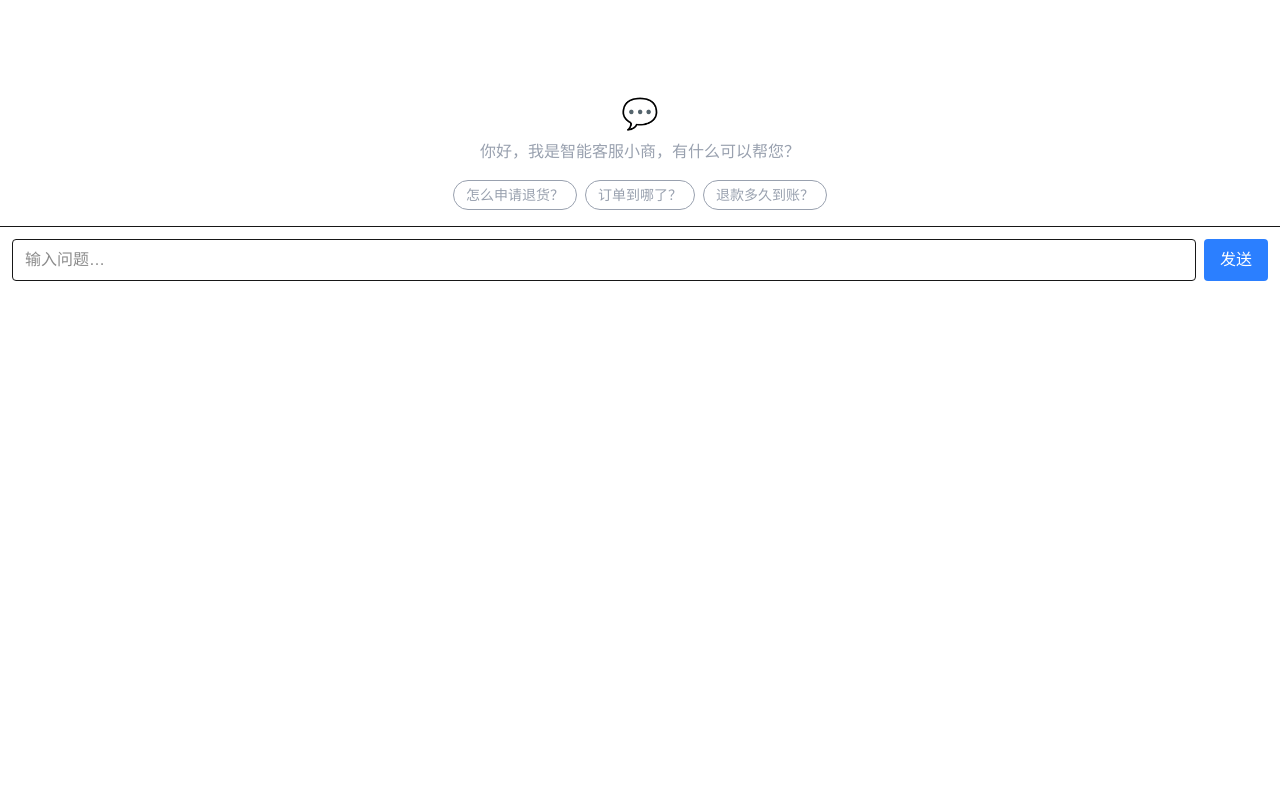
Test case: ChatWindow › 转人工 → 回复 → 沉淀 → 发布 完整流程
In the field with placeholder "输入问题…": coordinates (604, 260) [12, 239, 1196, 281], type "怎么开电子发票"
Click the button "发送": coordinates (1236, 260) [1204, 239, 1268, 281]
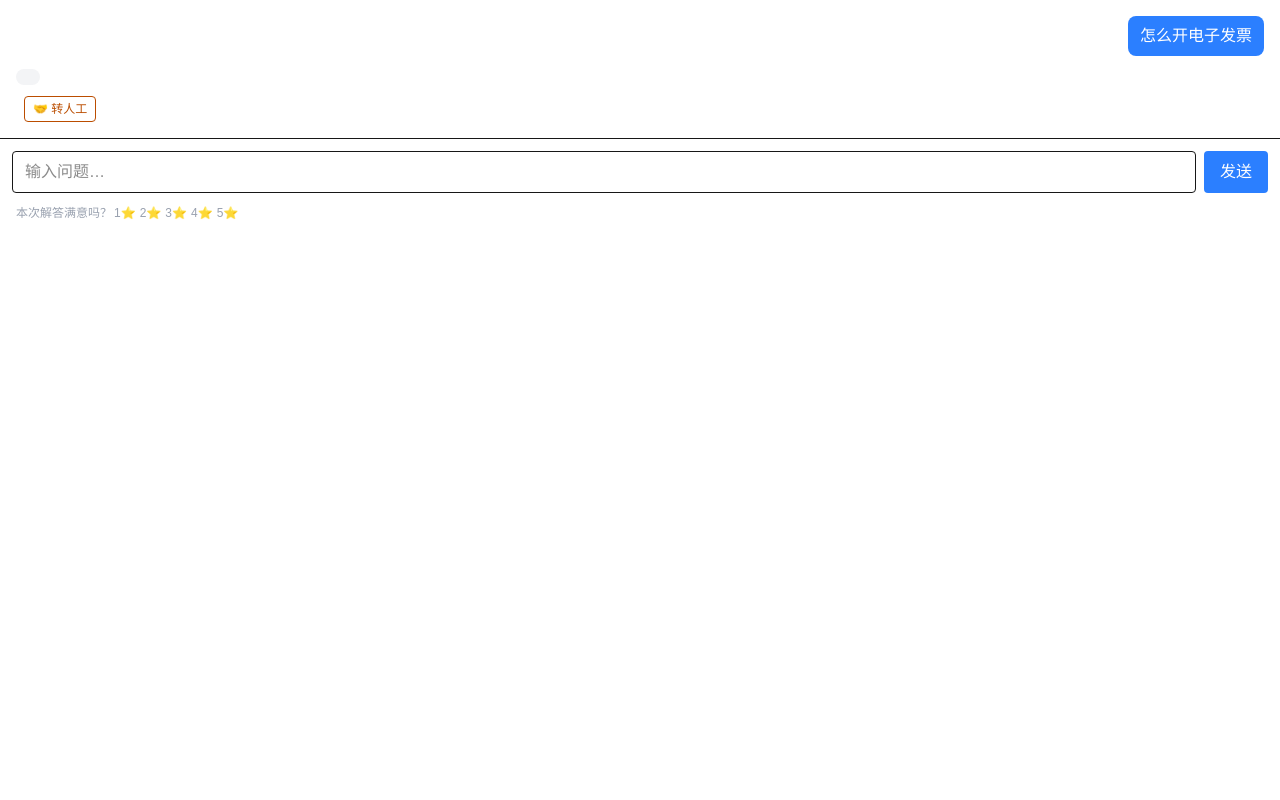
Click the button "🤝 转人工": coordinates (60, 109) [24, 96, 96, 122]
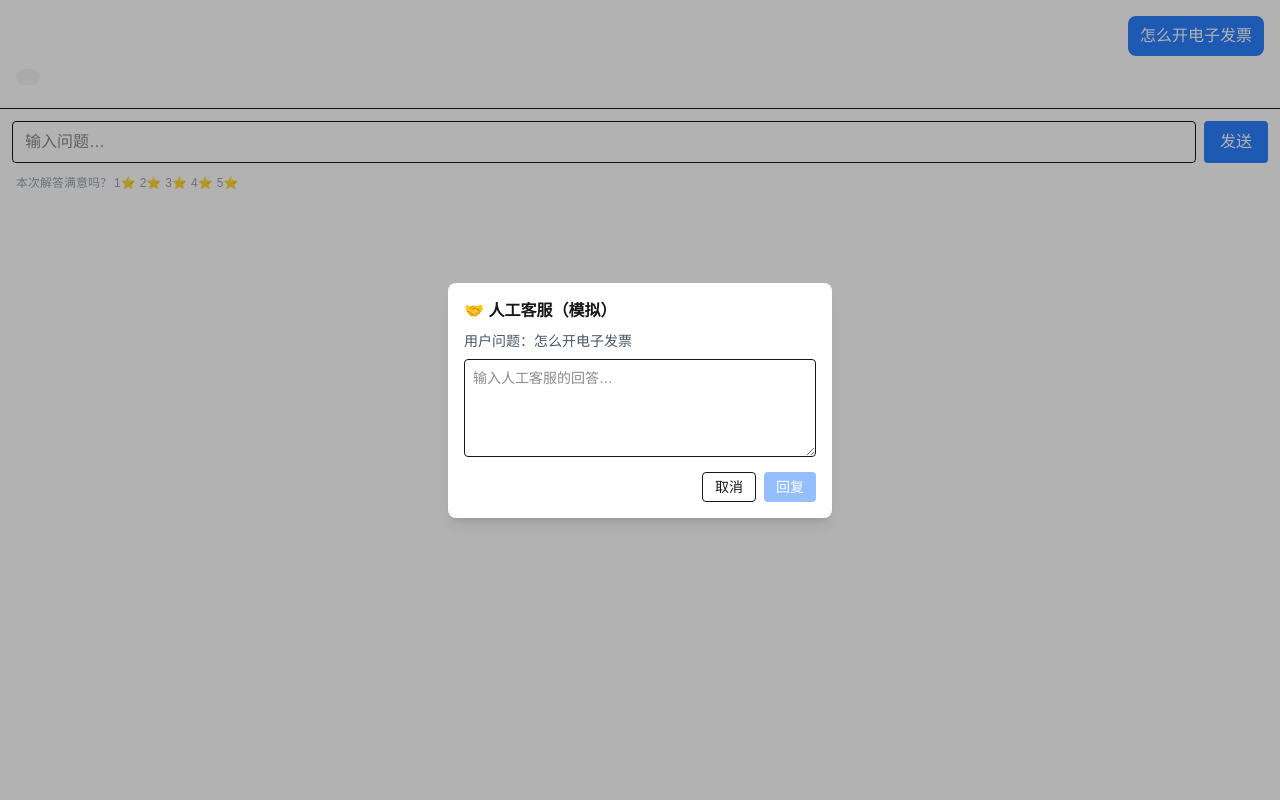
In the text box with placeholder "输入人工客服的回答…": coordinates (640, 408) [464, 358, 816, 456], type "请联系财务开具"
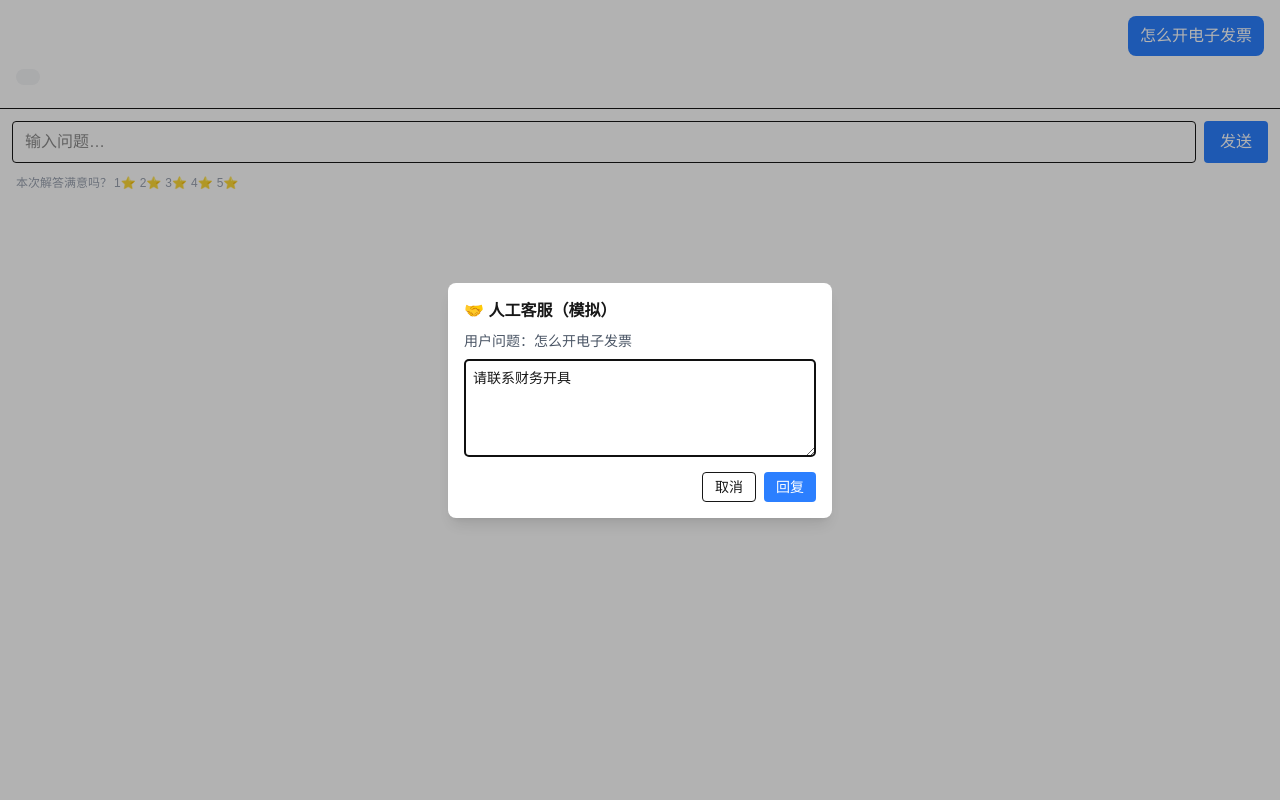
Click the button "回复": coordinates (790, 486) [764, 472, 816, 502]
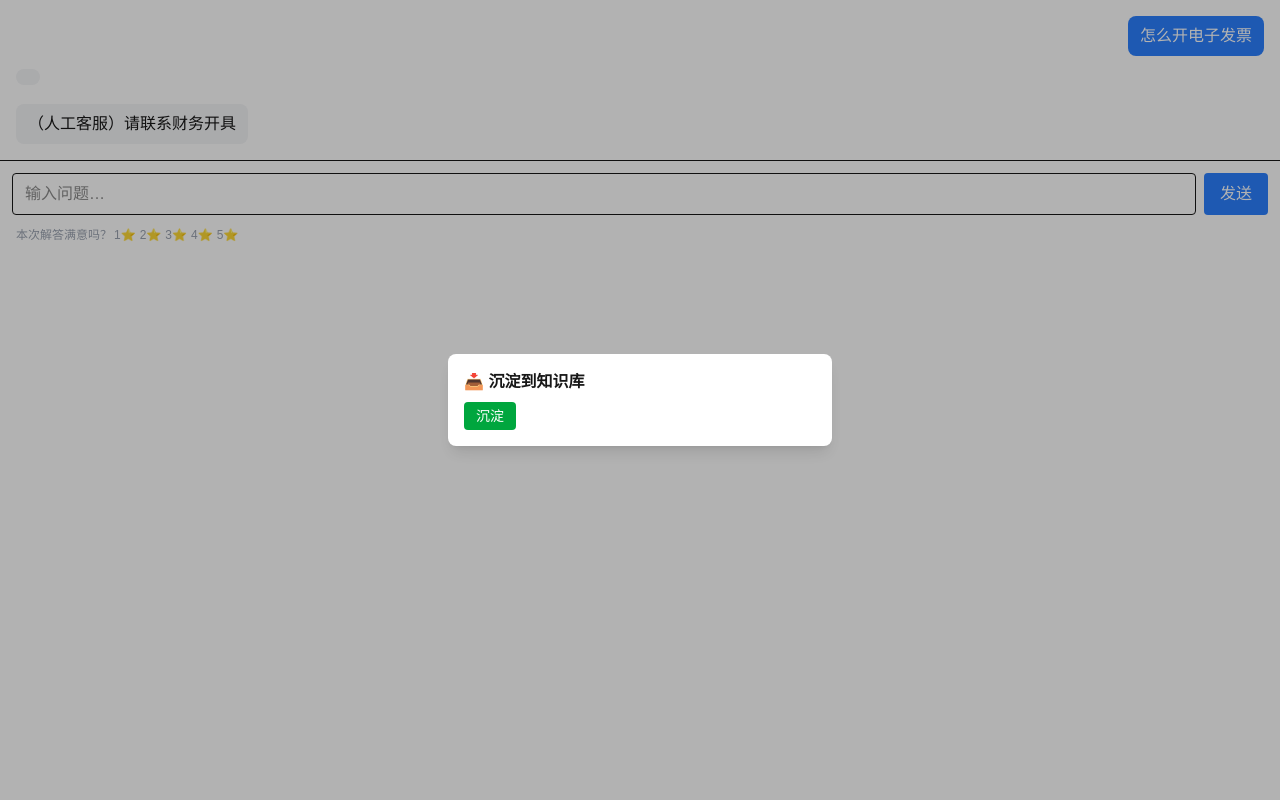
Now the text "（人工客服）请联系财务开具" is shown, box [28, 112, 236, 136]
Click the button "沉淀": coordinates (490, 416) [464, 402, 516, 430]
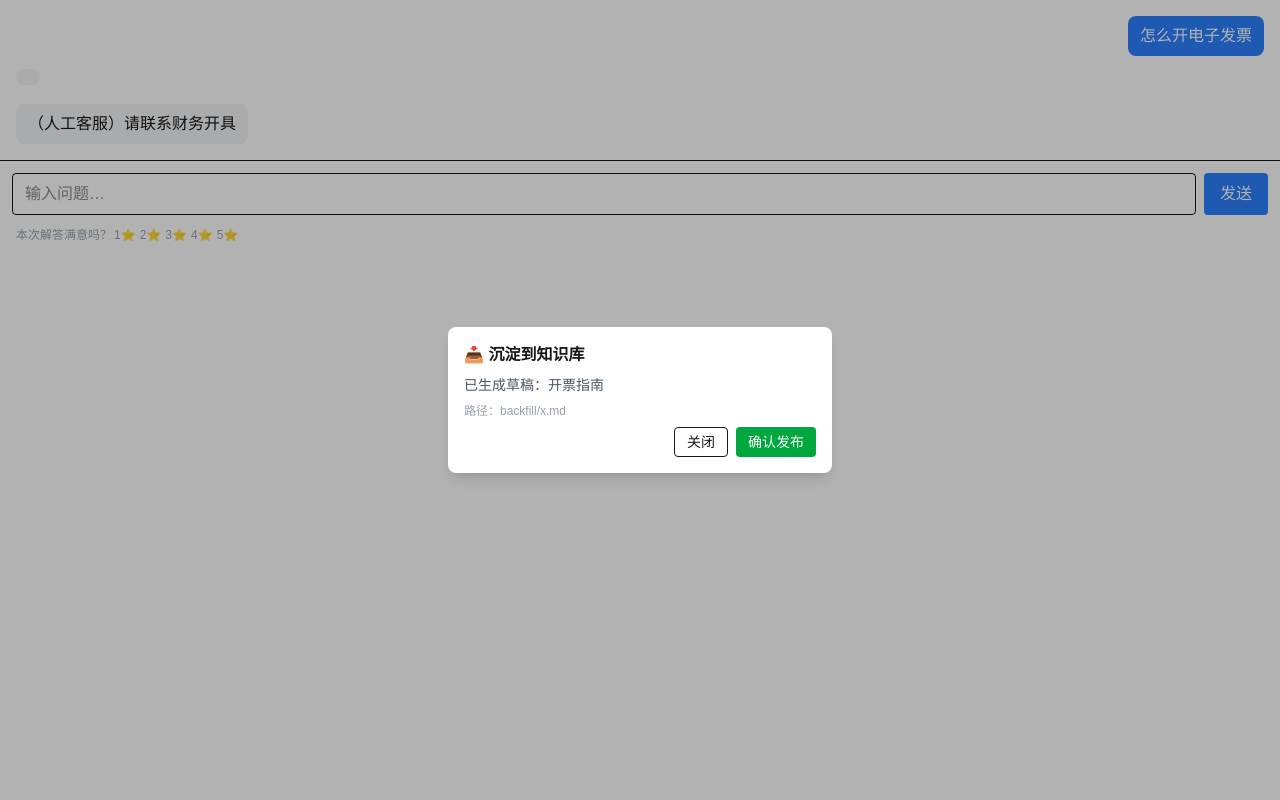
Click the button "确认发布": coordinates (776, 442) [736, 427, 816, 457]
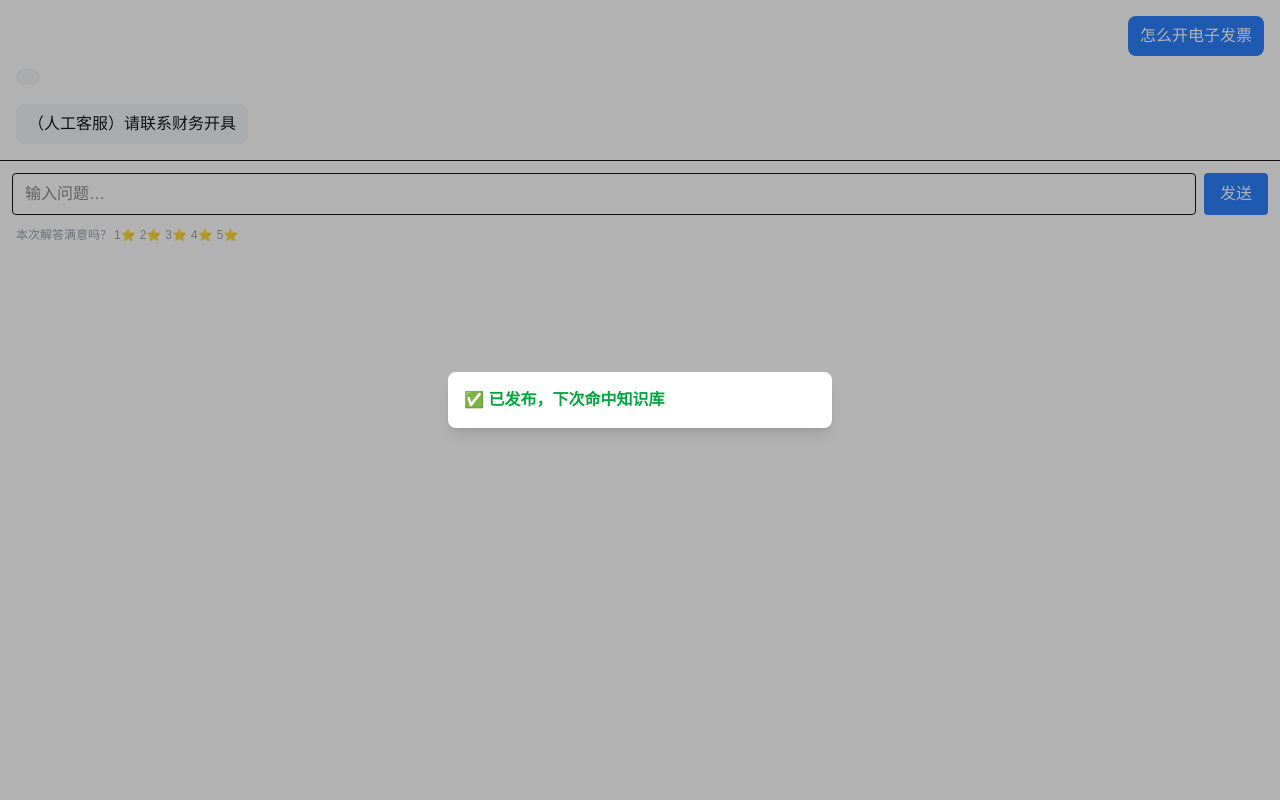
Now the text "✅ 已发布，下次命中知识库" is shown, box [464, 391, 664, 408]
